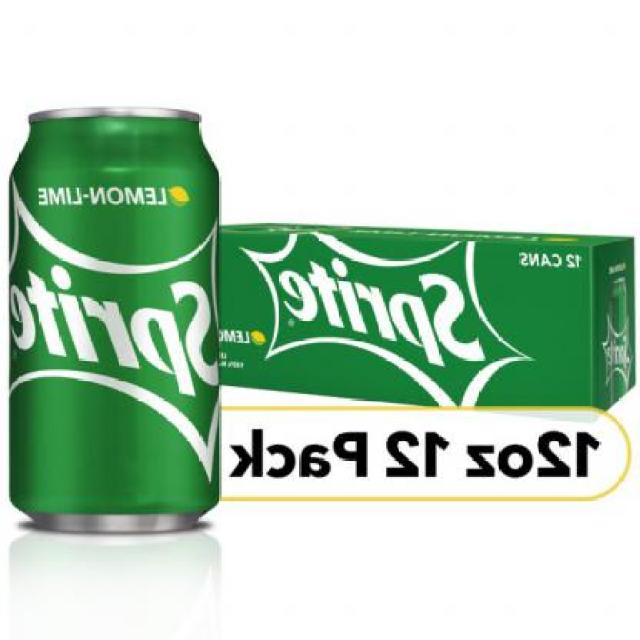metal: (8, 107, 221, 536)
